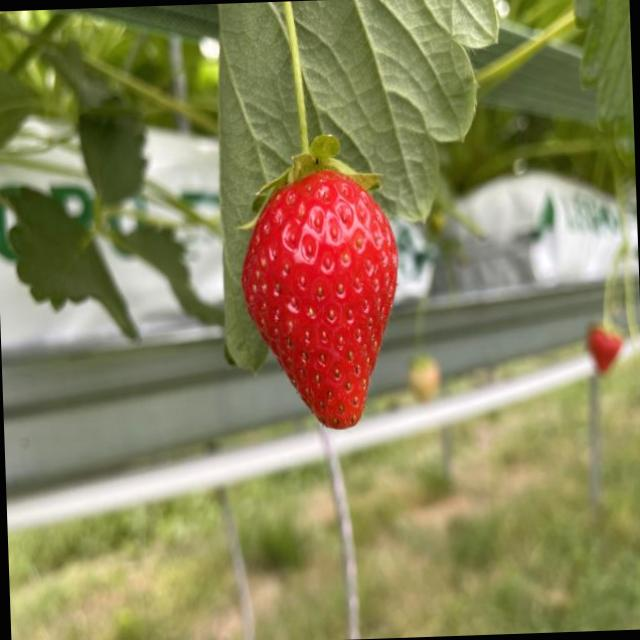stem: (253, 1, 379, 209)
strawberryR: (242, 170, 397, 428)
